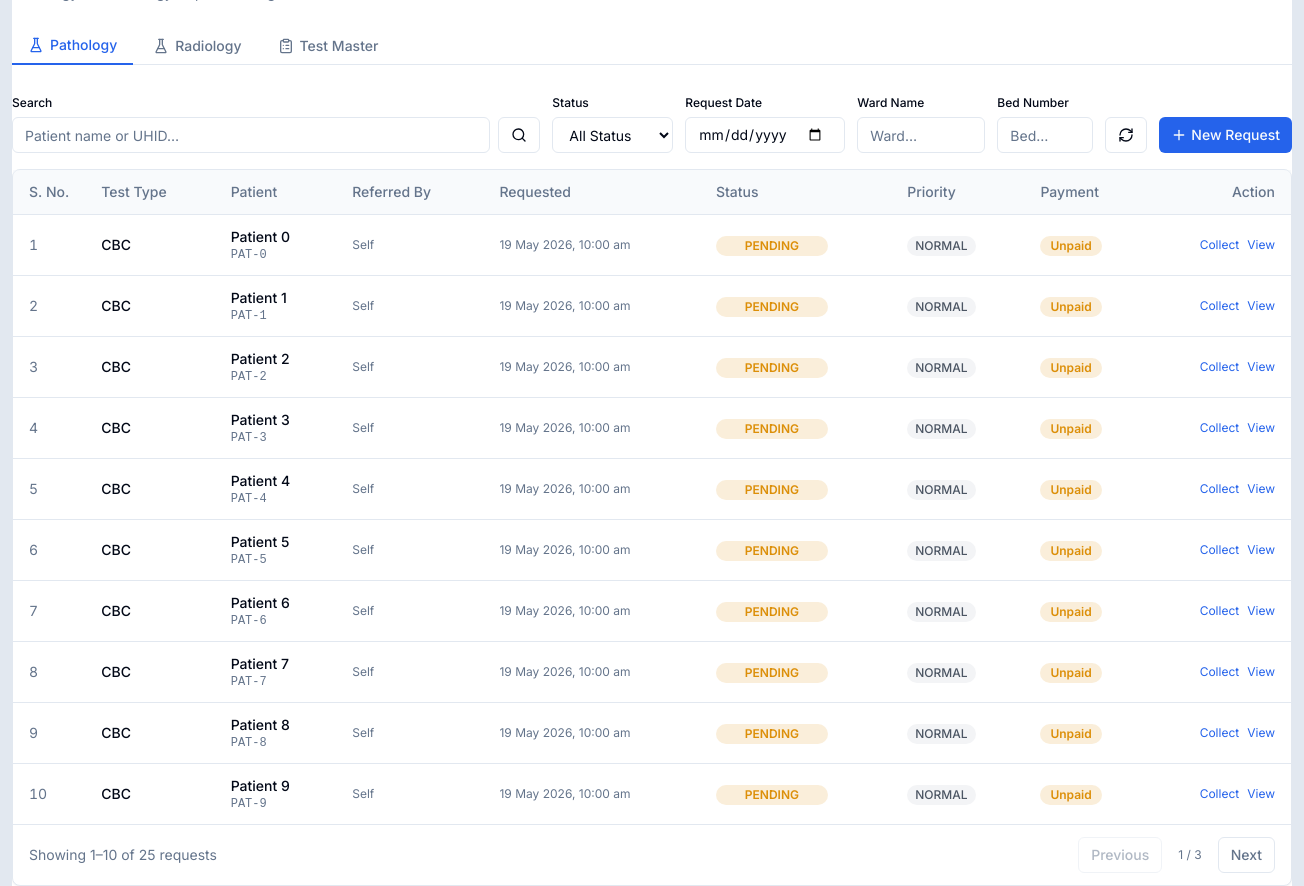
LabPage — server-side pagination › Radiology tab paginates its own list independently
(page scrolled)
Click the button "Next" at (1246, 855), box [1218,837,1275,873]
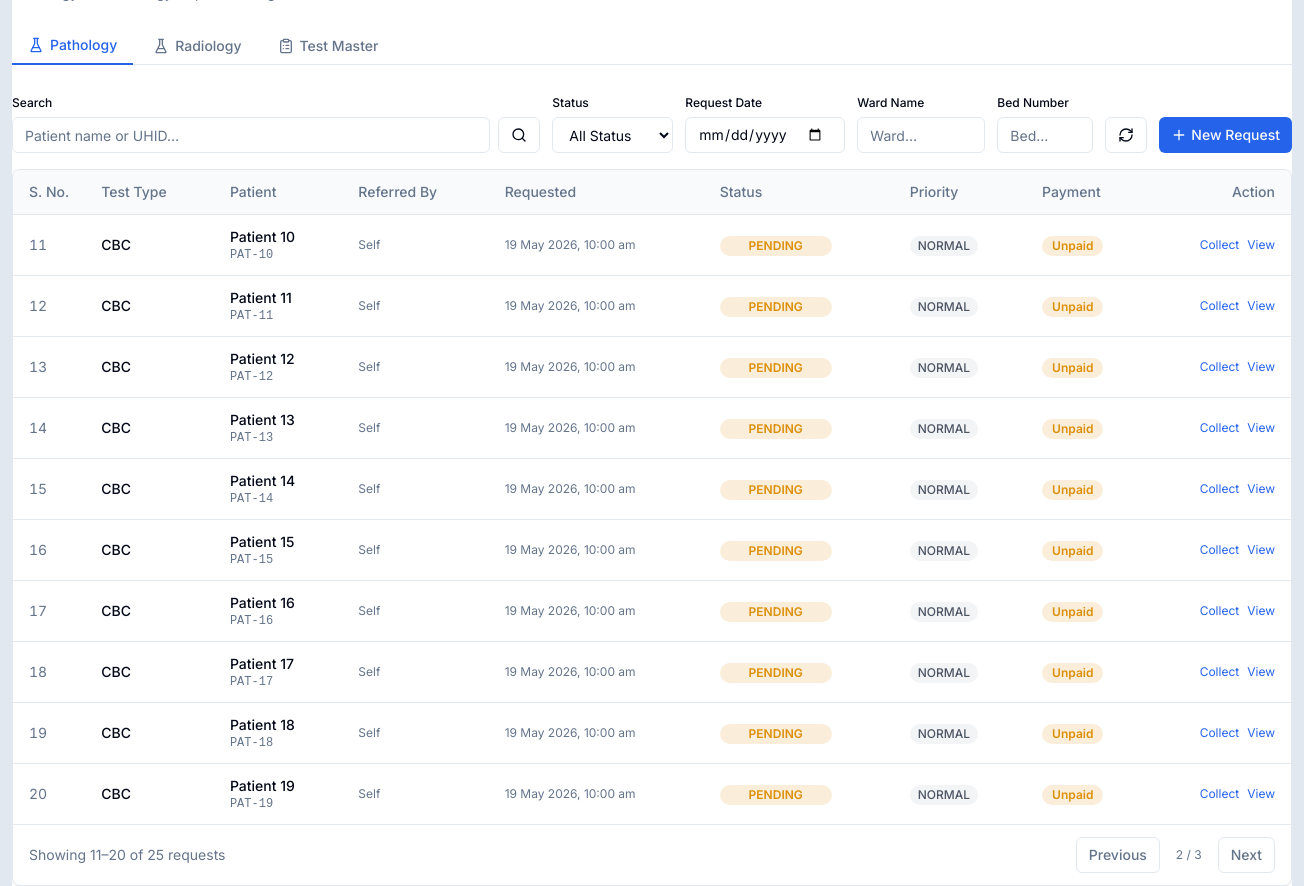
Click the button "Radiology" at (197, 46), box [137,27,258,64]
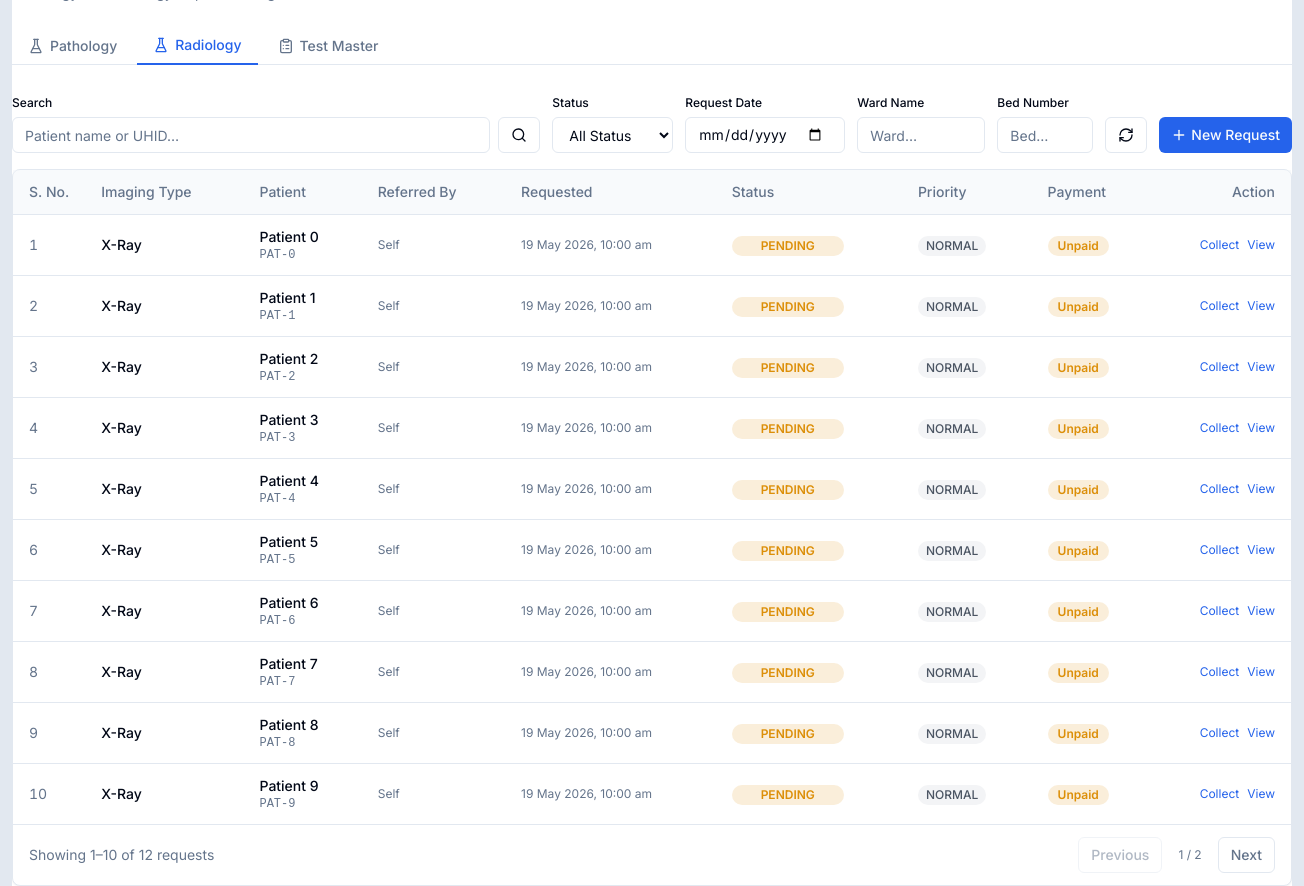
Result: the text "Showing 1–10 of 12 requests" is shown at [29,845,214,865]
Result: the text "1 / 2" is shown at [1178,847,1202,862]
